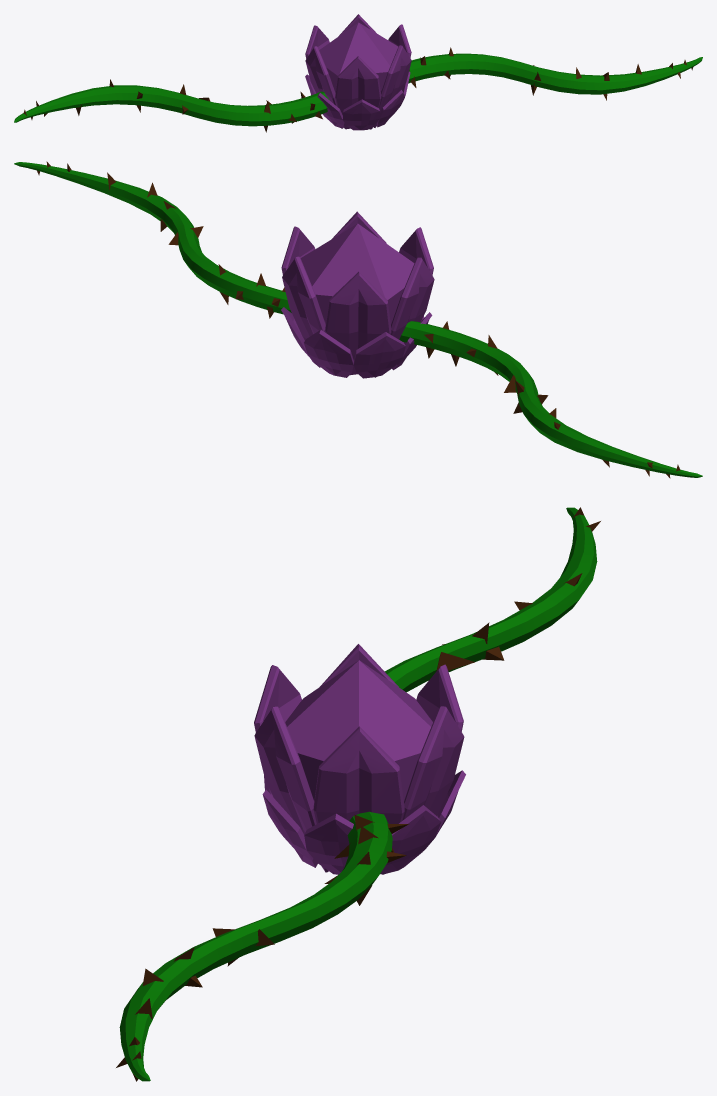
File: MazePlant.fbx
3 renders of one model, top to bottom at view 1: azimuth 30°, elevation 25°; view 2: azimuth 150°, elevation 25°; view 3: azimuth 270°, elevation 25°, orthographic. The views are drawn at different scales.
Parts seen in each view (by area): view 1: Cone.013, Plane.001; view 2: Plane.001, Cone.013; view 3: Plane.001, Cone.013.
Part boxes in pixels (x1,y1,x2,y2): Cone.013: (14, 47, 702, 132); Plane.001: (305, 14, 411, 130); Plane.001: (281, 211, 434, 378); Cone.013: (14, 161, 702, 478); Plane.001: (254, 644, 465, 874); Cone.013: (116, 507, 600, 1081).
Size of the model in its own units: 635 by 100 by 229.
